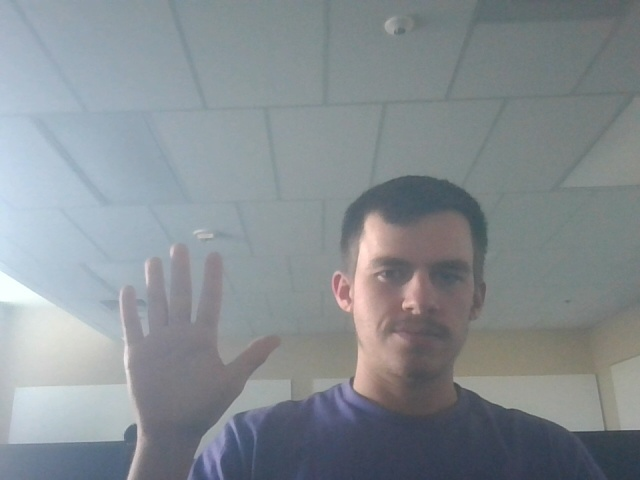hello: (107, 235, 287, 435)
